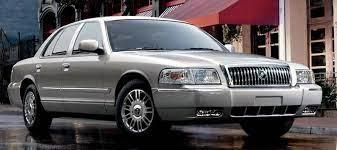Mercury: (254, 68, 273, 83)
